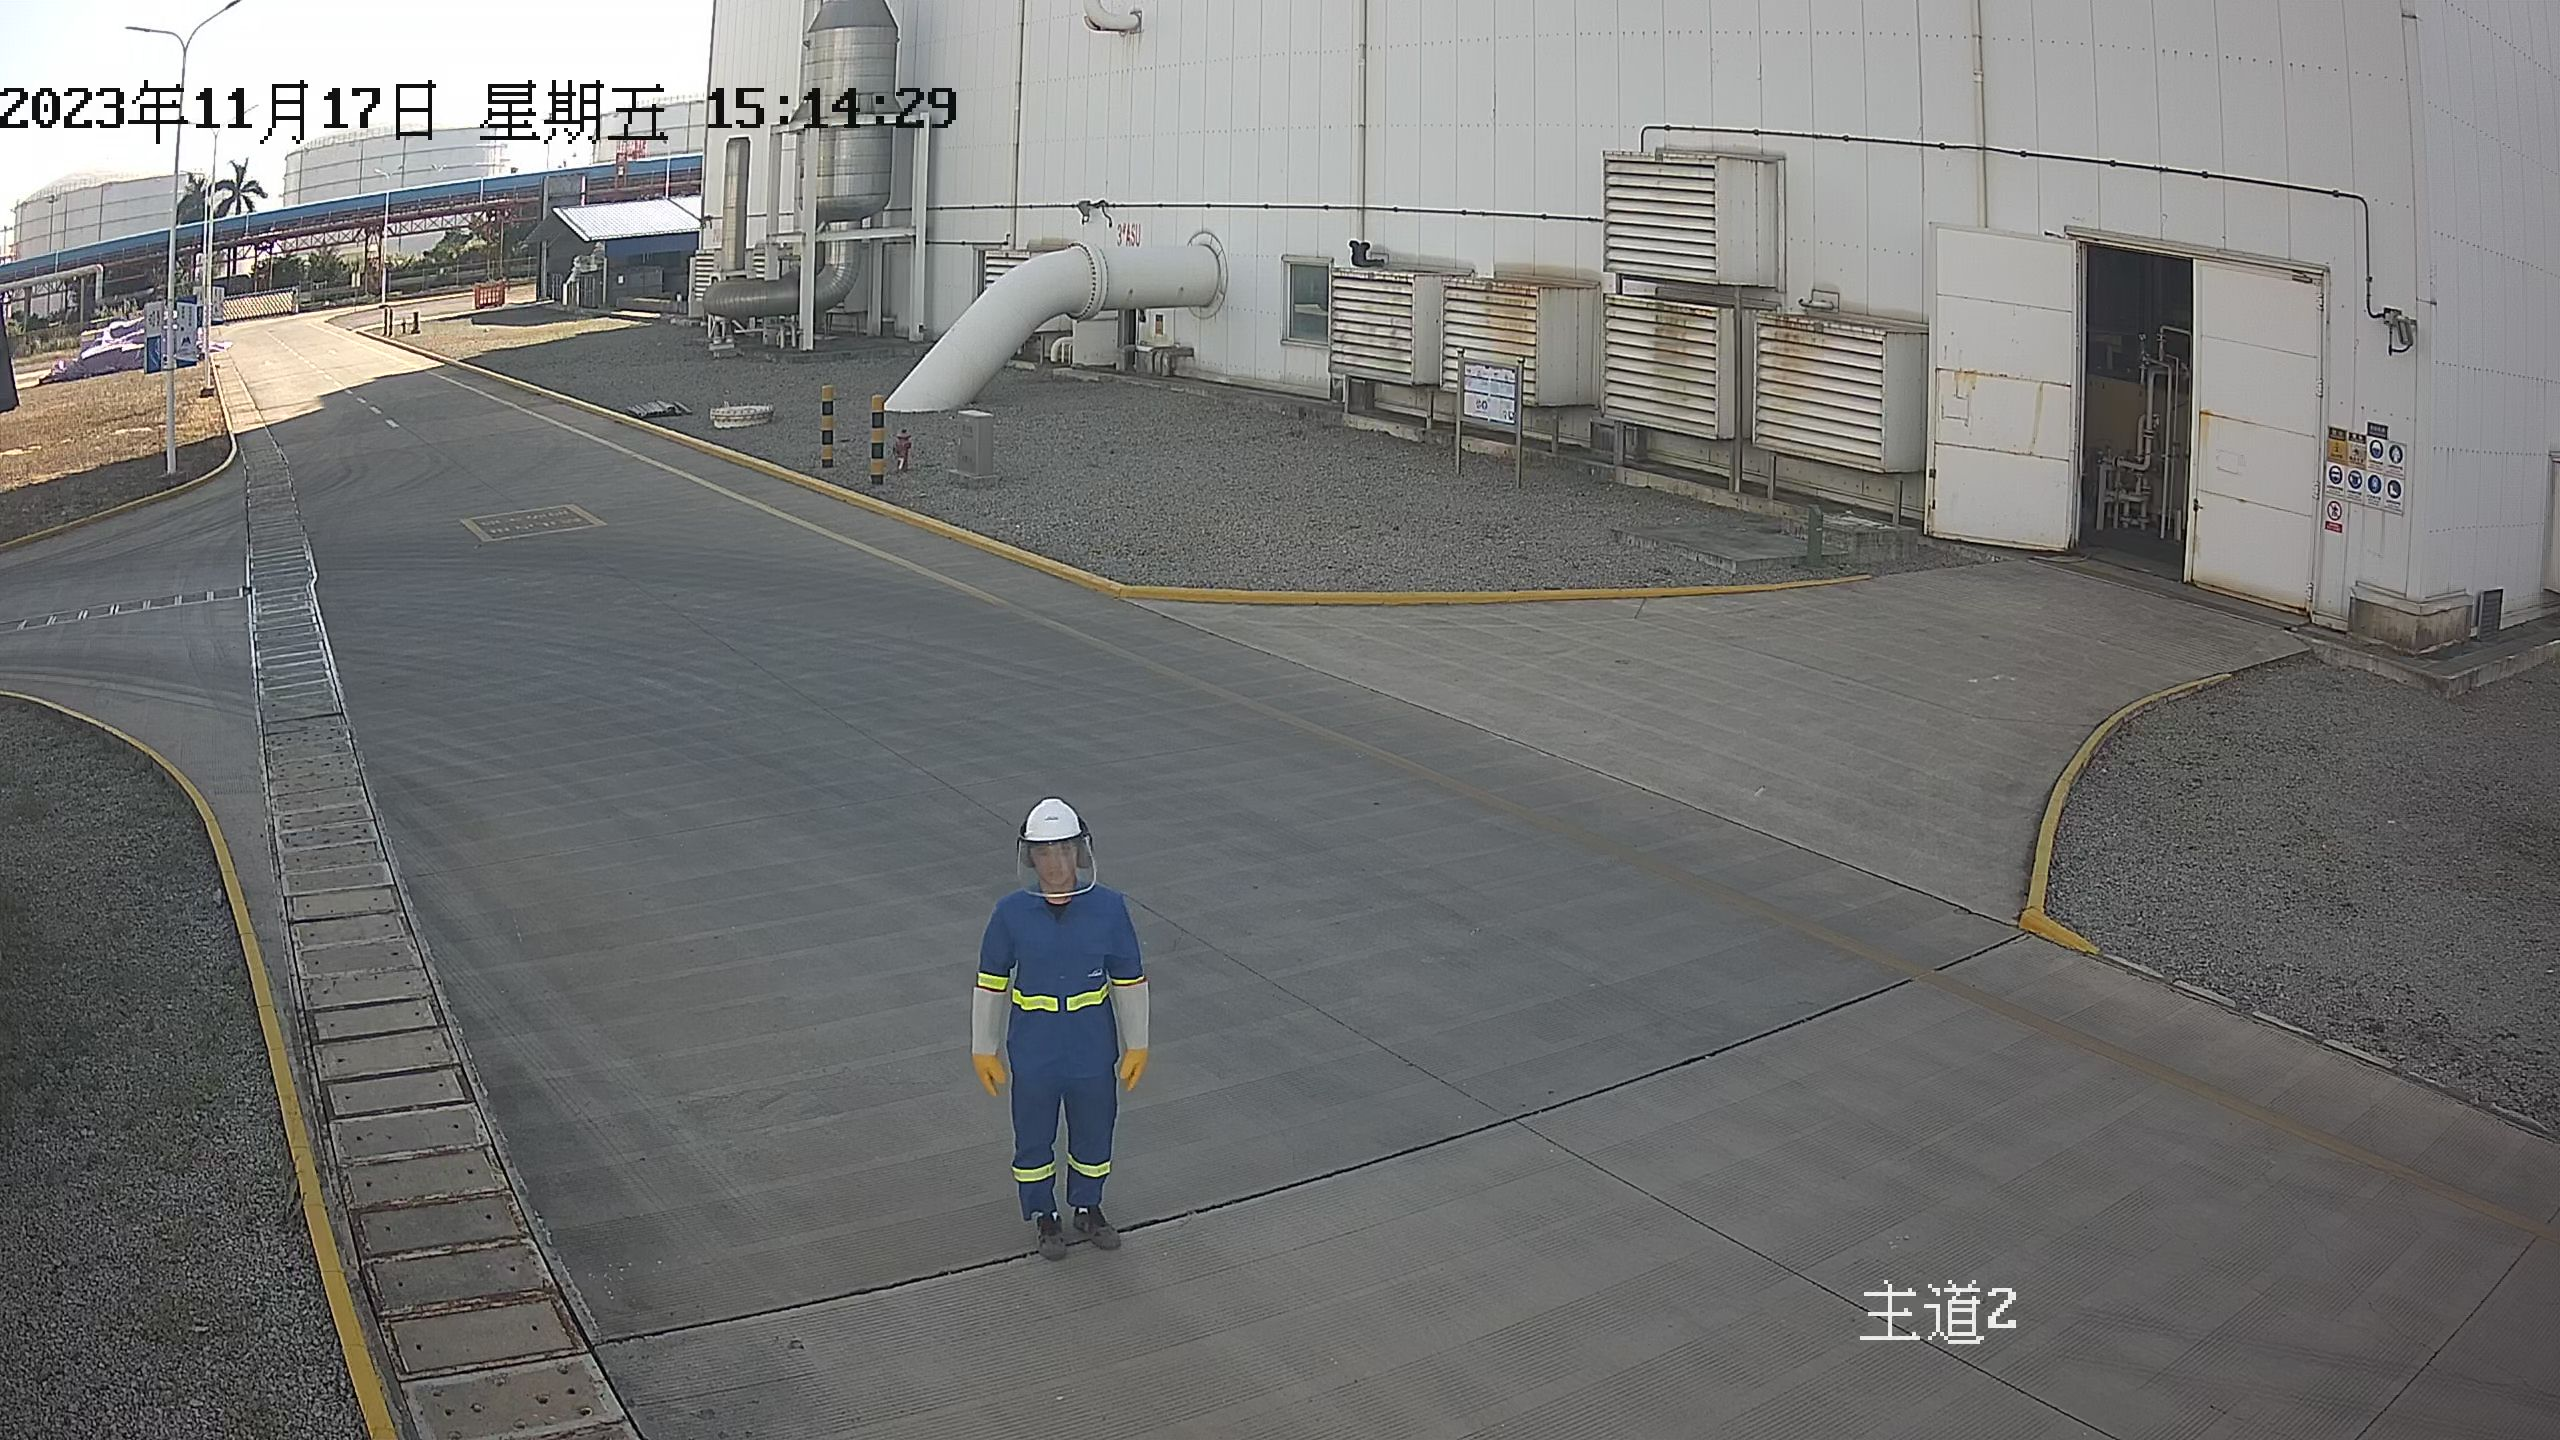Head_with_Helmet: (983, 781, 1151, 910)
Uniform: (944, 877, 1231, 1288)
